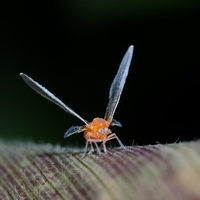insect: (19, 45, 133, 156)
